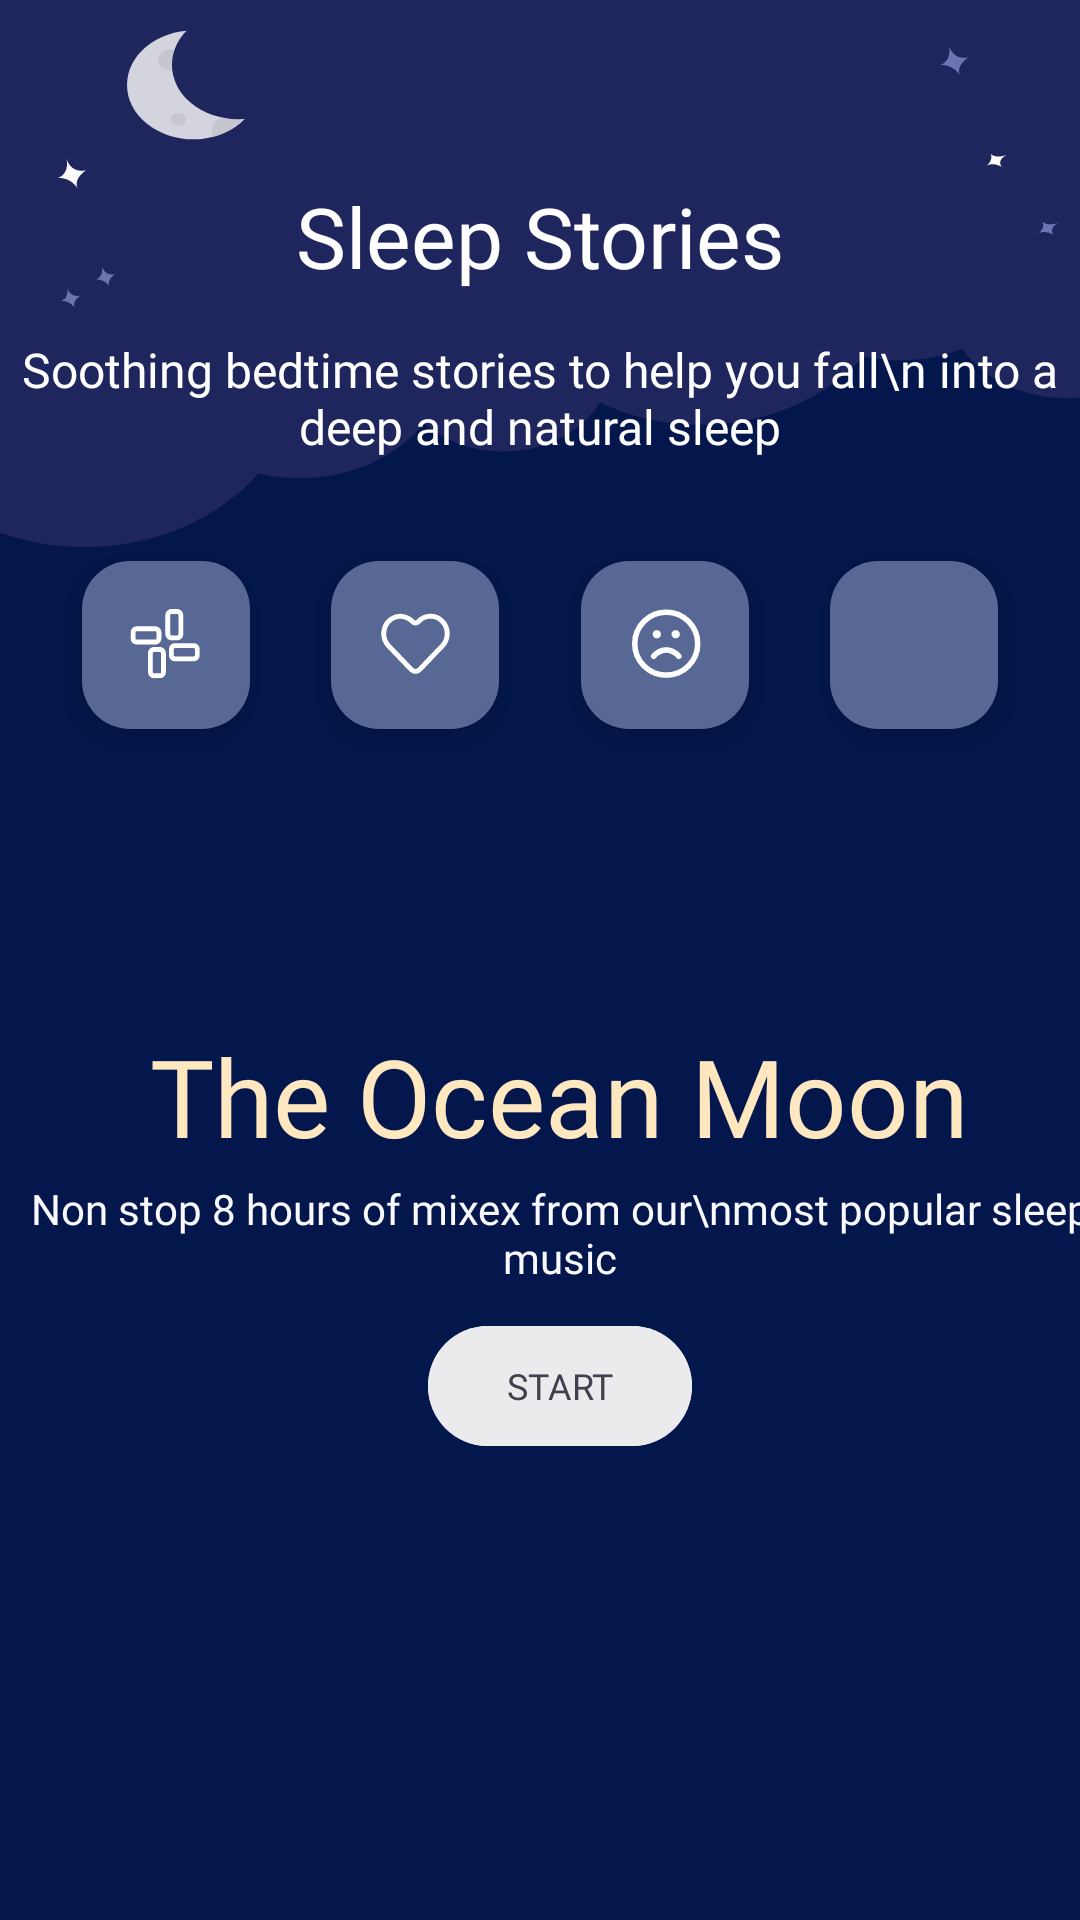

Locate icon controls on the screen. Image size 1080*1920, boxes as rect(x1, y1, x2, y2).
all: rect(82, 561, 250, 729)
anxious: rect(581, 561, 749, 729)
like: rect(331, 561, 499, 729)
